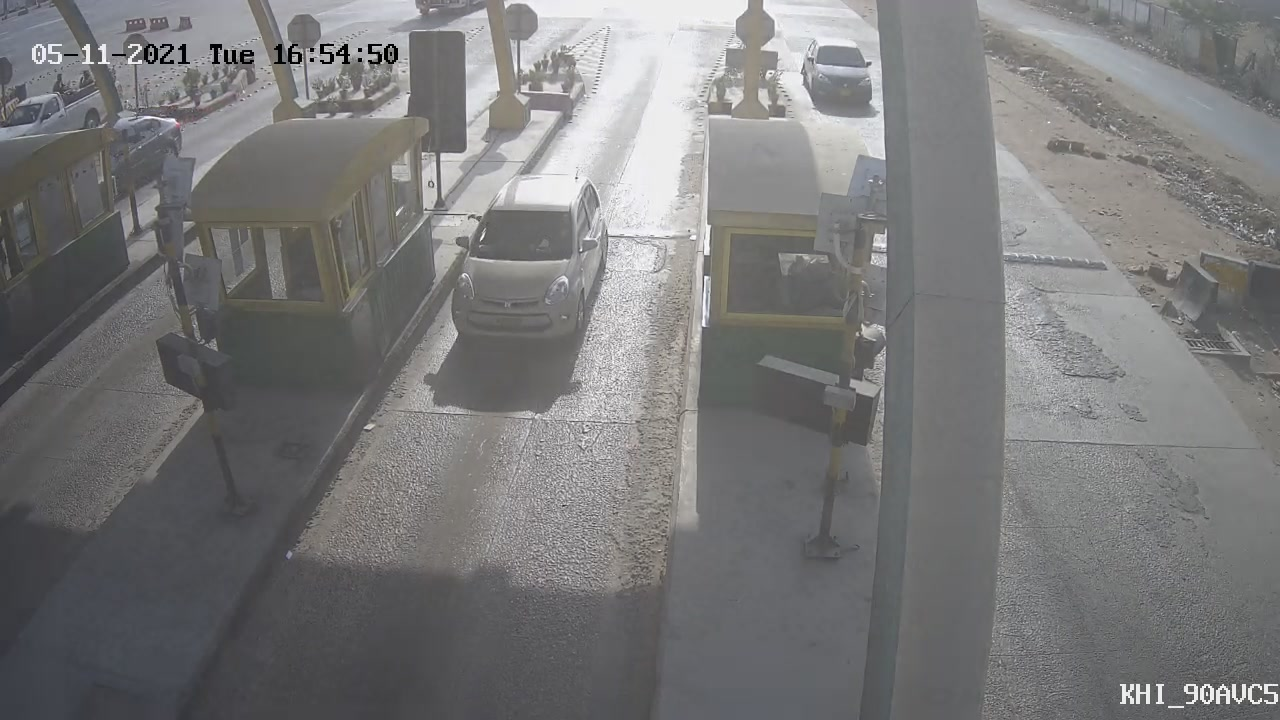F1: (422, 152, 629, 364)
